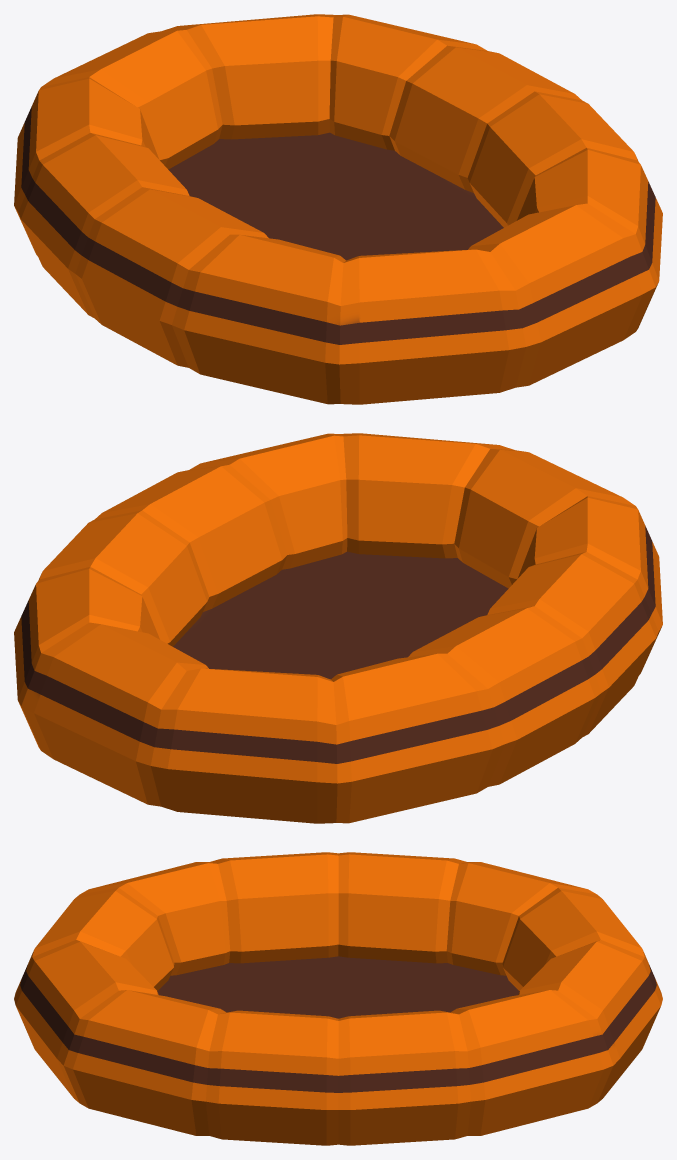
The model's file is Raft.fbx.
3 renders of one model, top to bottom at view 1: azimuth 30°, elevation 25°; view 2: azimuth 150°, elevation 25°; view 3: azimuth 270°, elevation 25°, orthographic. The views are drawn at different scales.
Visible parts, largest first — view 1: Torus; view 2: Torus; view 3: Torus.
Boxes of the visible parts, <box> form: Torus: <box>14,14,662,404</box>; Torus: <box>14,433,662,823</box>; Torus: <box>14,852,662,1145</box>.
Bounding box in the file's own units: 491 × 129 × 606.
